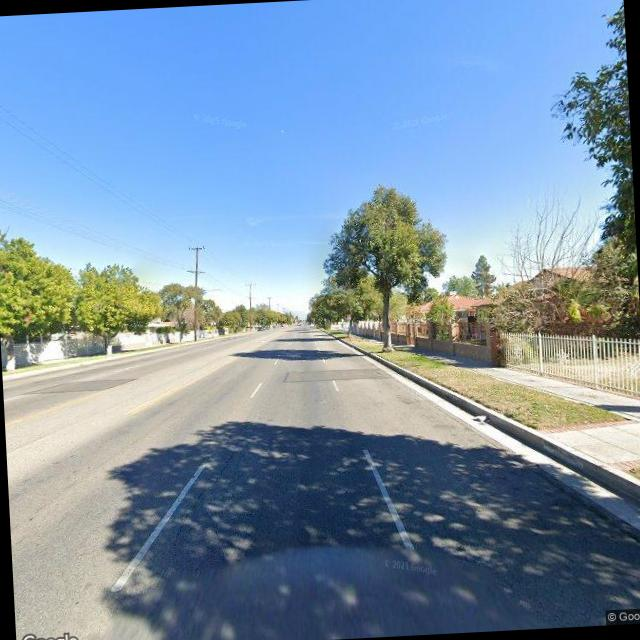pothole: (206, 430, 247, 499)
